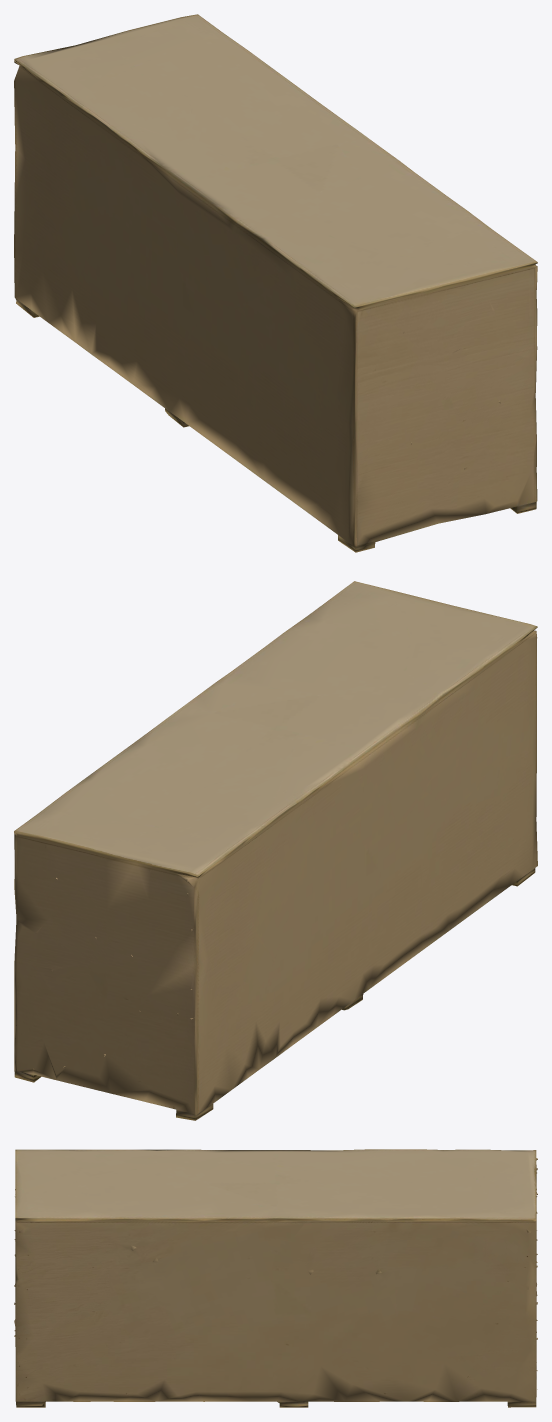
File: PPE_B_WoodenCrate.fbx
The picture shows the model from 3 angles, top to bottom: view 1: azimuth 30°, elevation 25°; view 2: azimuth 150°, elevation 25°; view 3: azimuth 270°, elevation 25°; orthographic projection. The views are drawn at different scales.
Visible parts, largest first — view 1: tripo_node_f13f255c; view 2: tripo_node_f13f255c; view 3: tripo_node_f13f255c.
Part boxes in pixels (bbox=[...]): tripo_node_f13f255c: bbox=[14, 14, 537, 552]; tripo_node_f13f255c: bbox=[14, 581, 537, 1120]; tripo_node_f13f255c: bbox=[14, 1149, 537, 1407].
Bounding box in the file's own units: 0.3089 × 0.3921 × 0.9802.
